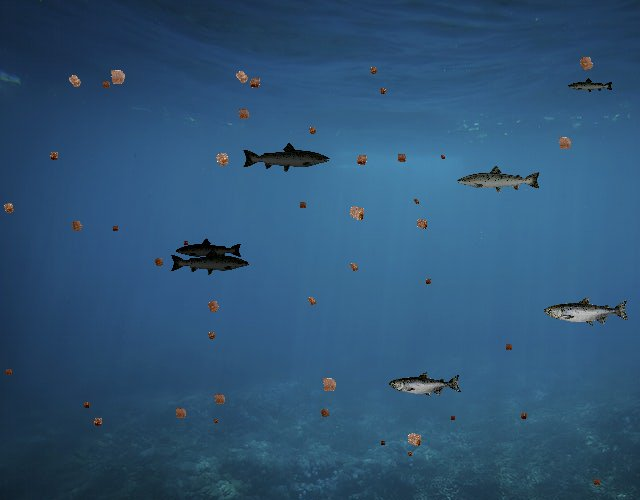Fish: (241, 142, 331, 174), (456, 164, 542, 195), (544, 296, 630, 327), (169, 247, 250, 276), (389, 372, 462, 398), (176, 237, 244, 262), (568, 77, 615, 94)
Pellet: (102, 62, 132, 92), (243, 72, 266, 94), (0, 197, 20, 219), (344, 257, 363, 276), (392, 148, 410, 166), (516, 409, 530, 423), (422, 275, 435, 288), (109, 223, 121, 235), (210, 416, 220, 426)
